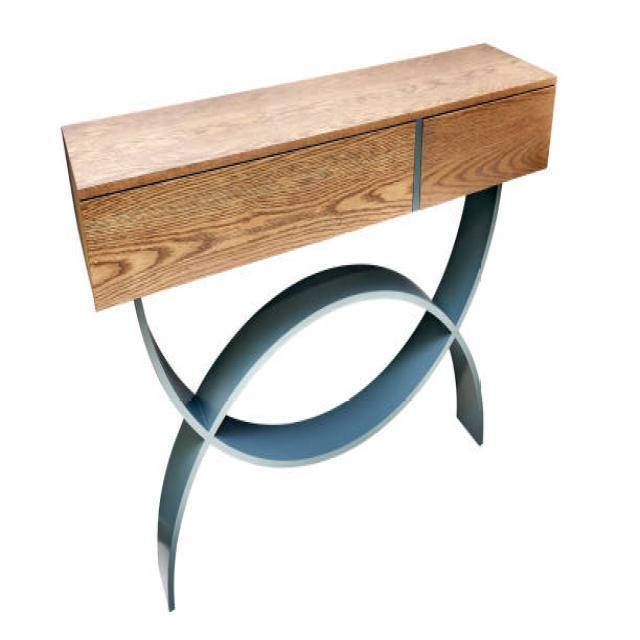table: (60, 39, 558, 610)
